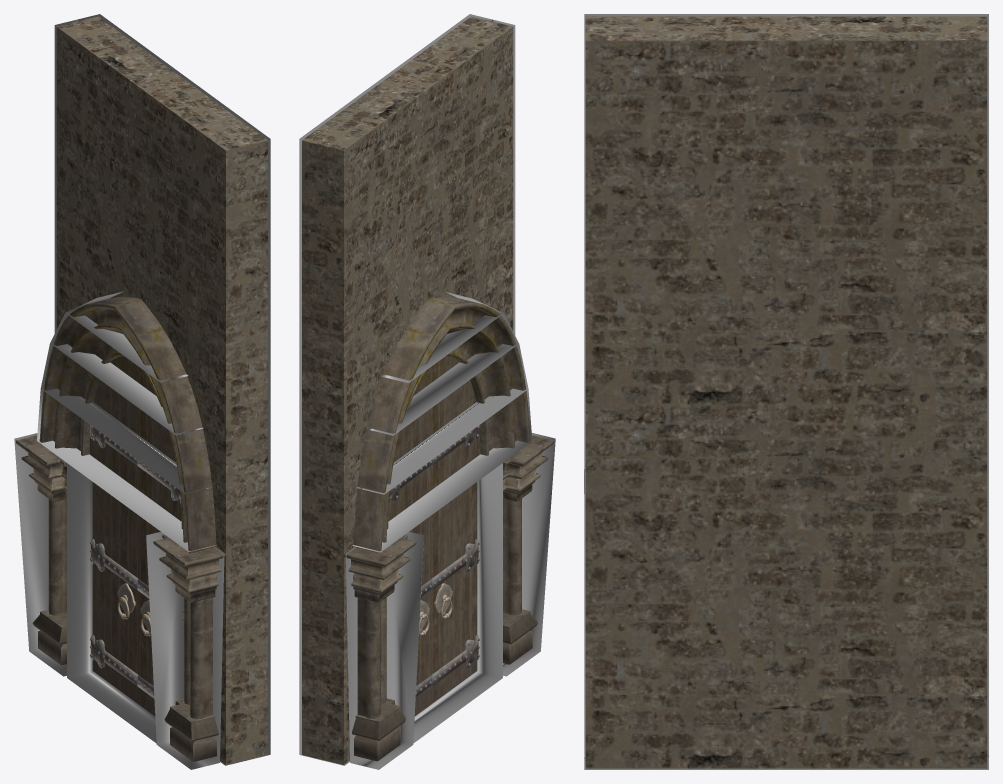
Rendered from SM_Modular_Wall_Door_01a.gltf.
3 renders of one model, left to right at view 1: azimuth 30°, elevation 25°; view 2: azimuth 150°, elevation 25°; view 3: azimuth 270°, elevation 25°, orthographic. The views are drawn at different scales.
Visible parts, largest first — view 1: SM_Modular_Wall_Door_01a_LOD0, SM_Modular_Wall_Door_01a_ConvexHulls; view 2: SM_Modular_Wall_Door_01a_LOD0, SM_Modular_Wall_Door_01a_ConvexHulls; view 3: SM_Modular_Wall_Door_01a_LOD0, SM_Modular_Wall_Door_01a_ConvexHulls.
Part boxes in pixels (x1,y1,x2,y2): SM_Modular_Wall_Door_01a_LOD0: (15, 16, 267, 764); SM_Modular_Wall_Door_01a_ConvexHulls: (14, 14, 270, 769); SM_Modular_Wall_Door_01a_LOD0: (302, 16, 554, 764); SM_Modular_Wall_Door_01a_ConvexHulls: (299, 14, 555, 769); SM_Modular_Wall_Door_01a_LOD0: (585, 16, 987, 768); SM_Modular_Wall_Door_01a_ConvexHulls: (584, 14, 988, 769).
Size of what is drawn, in the model's own units: 2.04 by 14.08 by 7.06.
4 materials, 3 textured.
